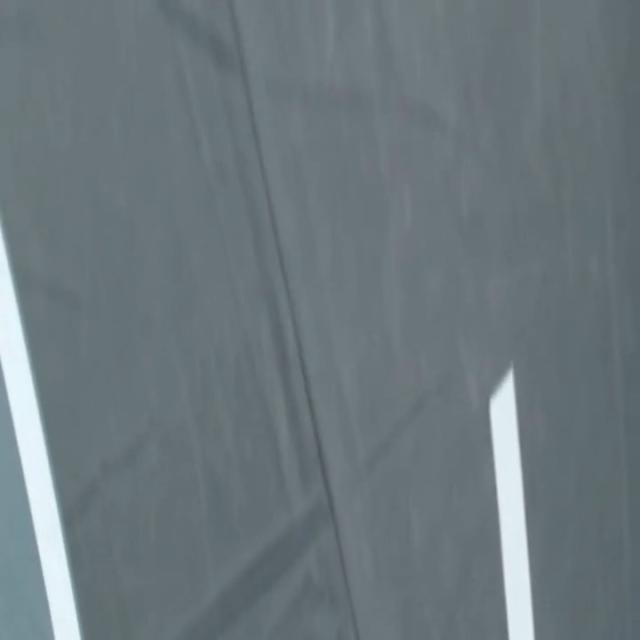center: (489, 366, 534, 639)
left: (0, 219, 81, 639)
